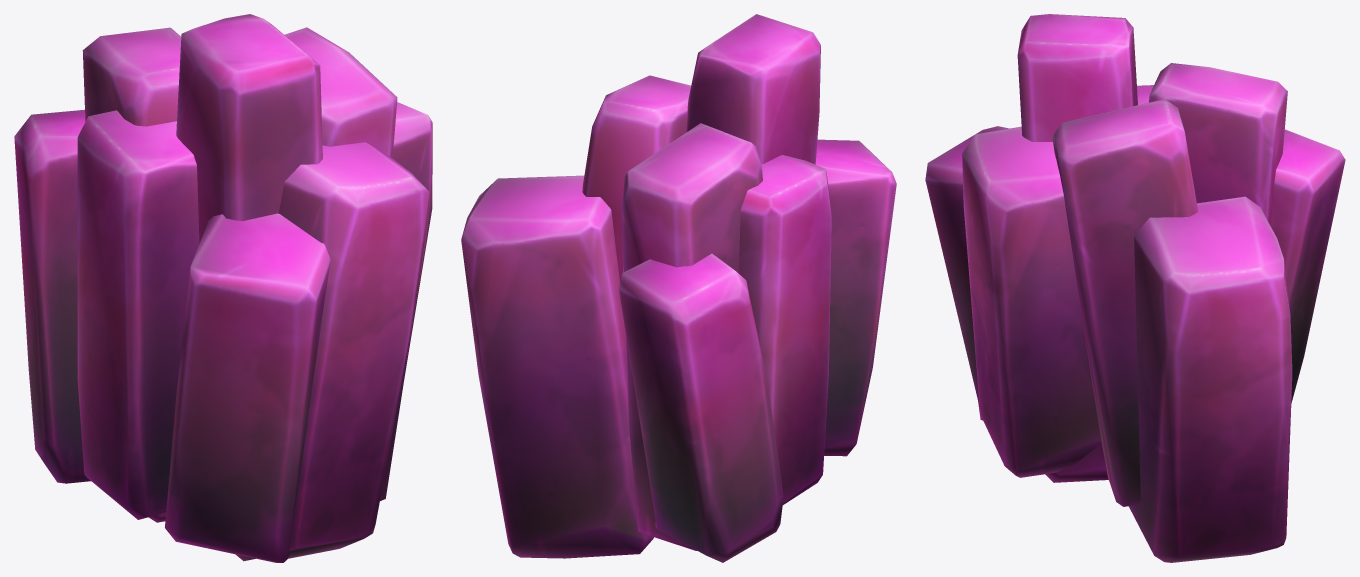
Rendered from SM_Gem_Kunzite_009.fbx.
3 renders of one model, left to right at view 1: azimuth 30°, elevation 25°; view 2: azimuth 150°, elevation 25°; view 3: azimuth 270°, elevation 25°, orthographic. The views are drawn at different scales.
Parts seen in each view (by area): view 1: SM_Gem_Kunzite_009; view 2: SM_Gem_Kunzite_009; view 3: SM_Gem_Kunzite_009.
Part boxes in pixels (x1,y1,x2,y2): SM_Gem_Kunzite_009: (14, 14, 432, 562); SM_Gem_Kunzite_009: (461, 14, 896, 562); SM_Gem_Kunzite_009: (925, 14, 1345, 562).
Bounding box in the file's own units: 47.44 × 68.06 × 56.09.
